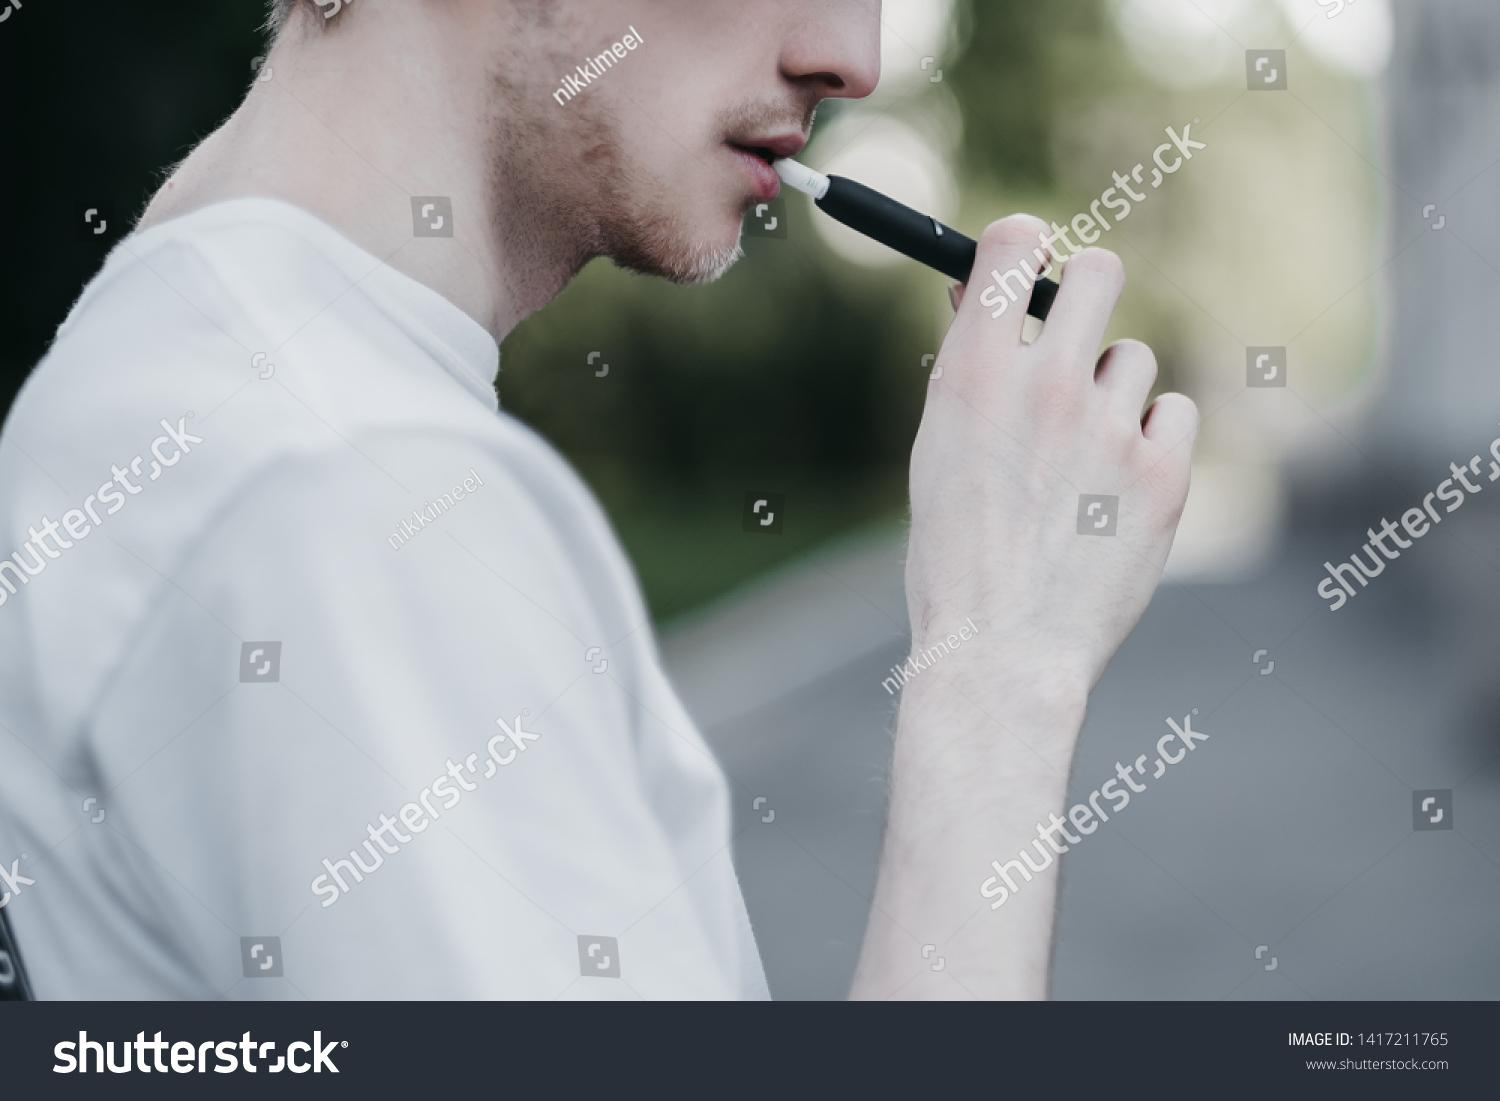iqos: (772, 154, 1062, 323)
